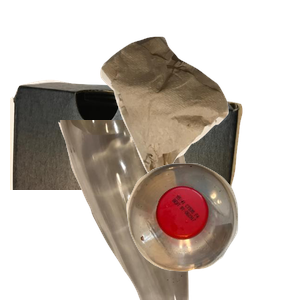cardboard: (10, 77, 245, 257)
glass: (56, 120, 241, 300)
plastic: (124, 161, 300, 300)
trash: (98, 34, 300, 211)
